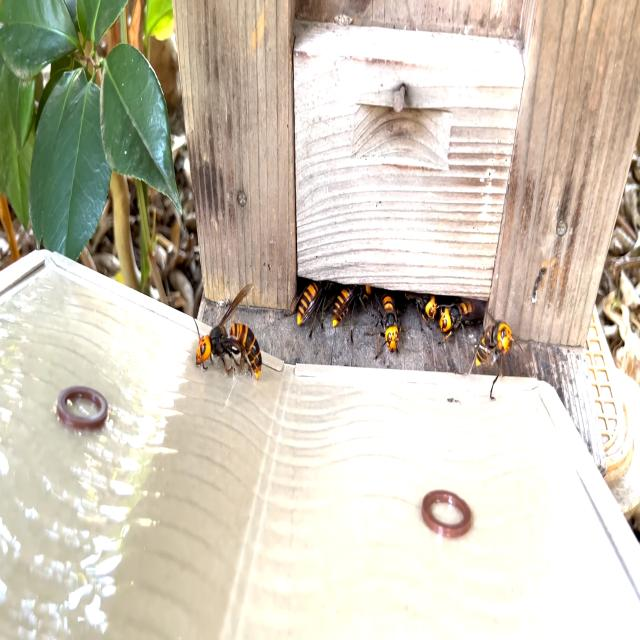Hornets: (193, 282, 262, 382), (466, 303, 522, 403), (367, 288, 405, 362), (433, 299, 483, 344)
